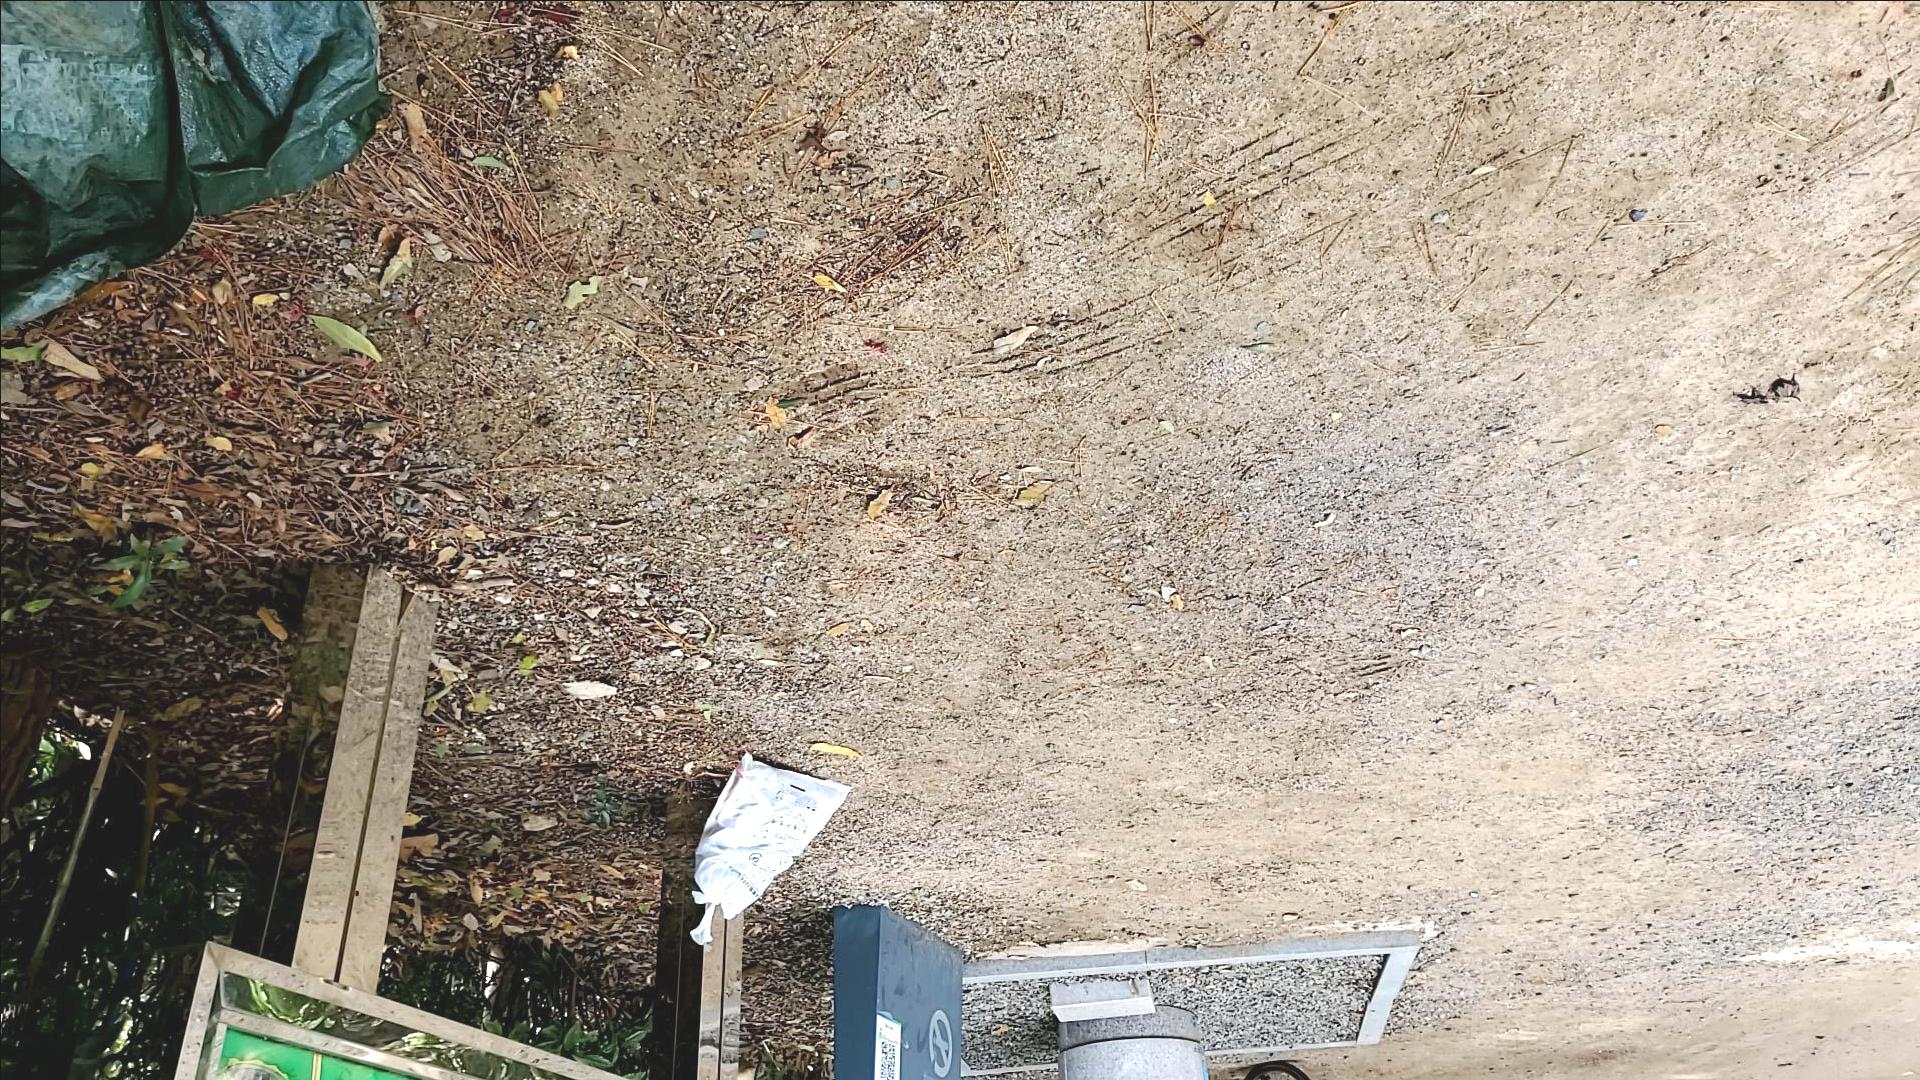white_bag: (684, 749, 862, 959)
